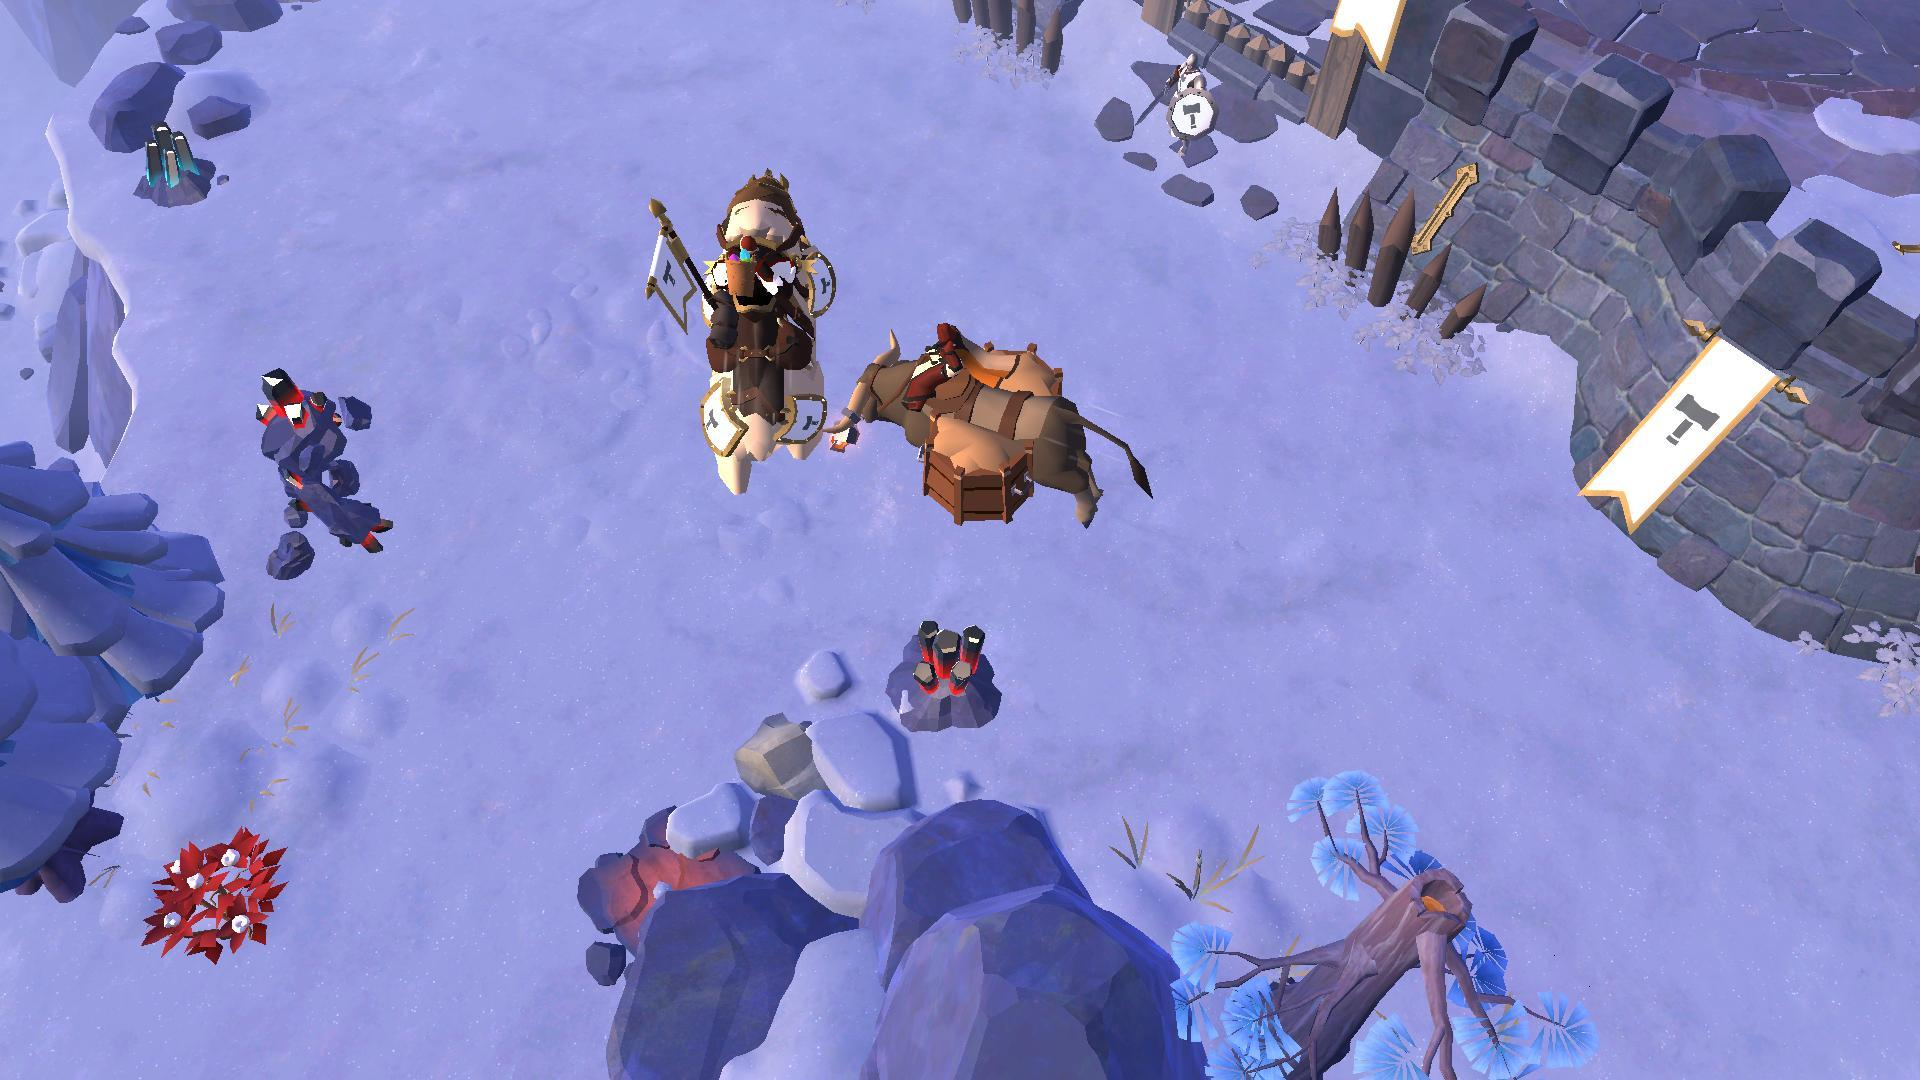fiber_t5: (142, 832, 291, 953)
ore_t4: (132, 120, 198, 183)
ore_t5: (898, 617, 994, 703)
